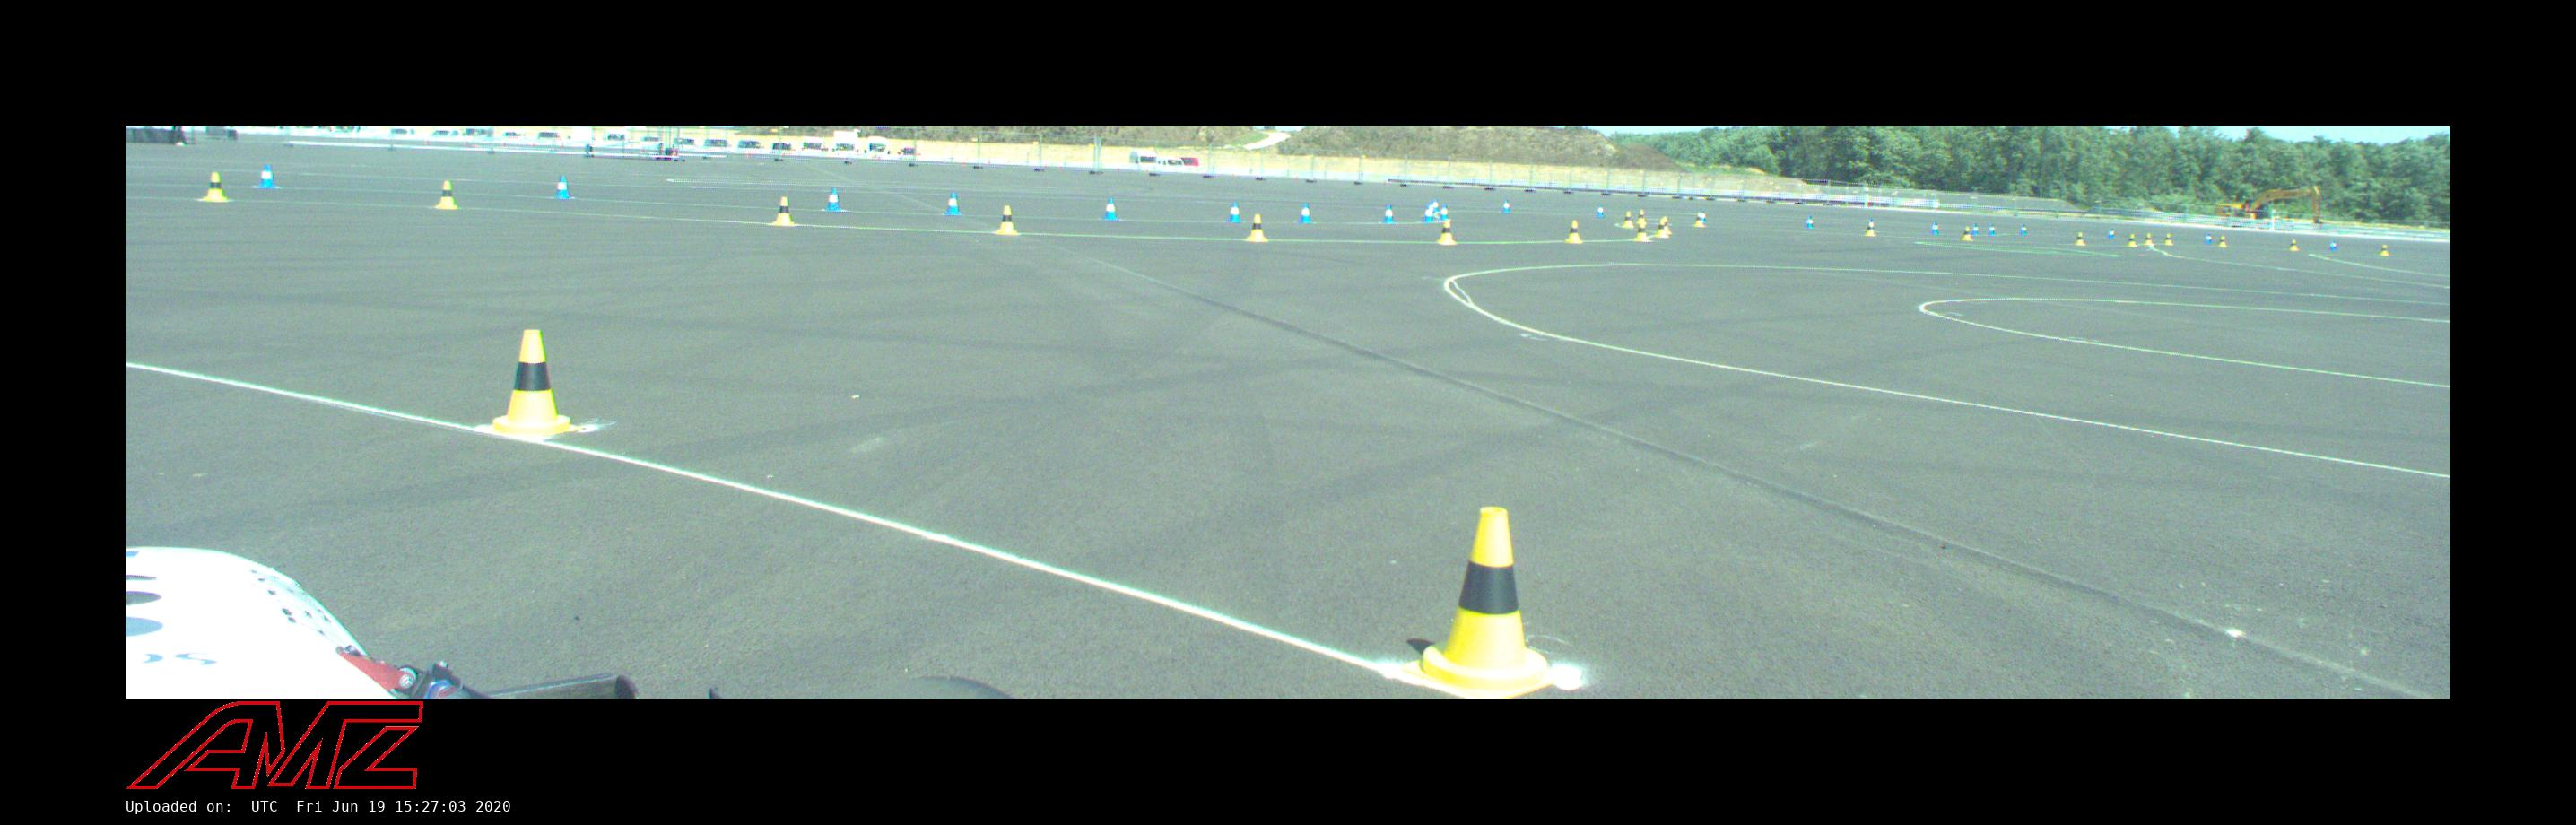blue_cone: (552, 176, 572, 199), (258, 164, 276, 189), (825, 187, 841, 212), (945, 192, 961, 215), (1101, 197, 1117, 220), (1298, 202, 1313, 224), (1382, 204, 1396, 224), (1227, 202, 1242, 222), (1421, 205, 1436, 224), (1439, 204, 1451, 222), (1431, 199, 1439, 219), (1930, 220, 1939, 233), (1502, 199, 1510, 212), (1597, 205, 1605, 219), (2106, 228, 2116, 238), (1805, 217, 1814, 228), (2330, 240, 2338, 251), (1700, 210, 1707, 224), (2205, 233, 2213, 243), (1988, 224, 1996, 233), (2021, 225, 2027, 235), (1973, 224, 1978, 235)
yellow_cone: (1400, 508, 1559, 698), (485, 330, 578, 437), (200, 173, 227, 200), (1245, 214, 1267, 242), (435, 181, 457, 209), (772, 197, 792, 224), (997, 207, 1017, 233), (1438, 219, 1454, 243), (1566, 220, 1582, 243), (1635, 222, 1648, 240), (1656, 217, 1667, 237), (1623, 212, 1635, 227), (2075, 232, 2085, 247), (1866, 222, 1876, 237), (1663, 217, 1671, 233), (1694, 214, 1704, 227), (1963, 227, 1971, 240), (2144, 233, 2154, 243), (2379, 245, 2389, 255), (2164, 233, 2172, 245), (1638, 210, 1646, 222), (2290, 240, 2298, 251), (2129, 233, 2136, 247), (2218, 237, 2226, 247)
